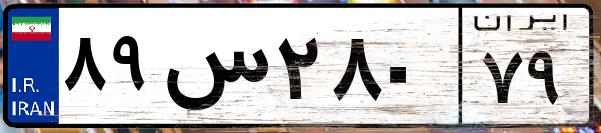0: (385, 28, 445, 110)
2: (270, 28, 330, 110)
7: (475, 38, 525, 113)
8: (330, 28, 385, 110), (57, 26, 110, 100)
9: (525, 38, 570, 115), (110, 28, 158, 98)
س: (158, 20, 270, 120)
